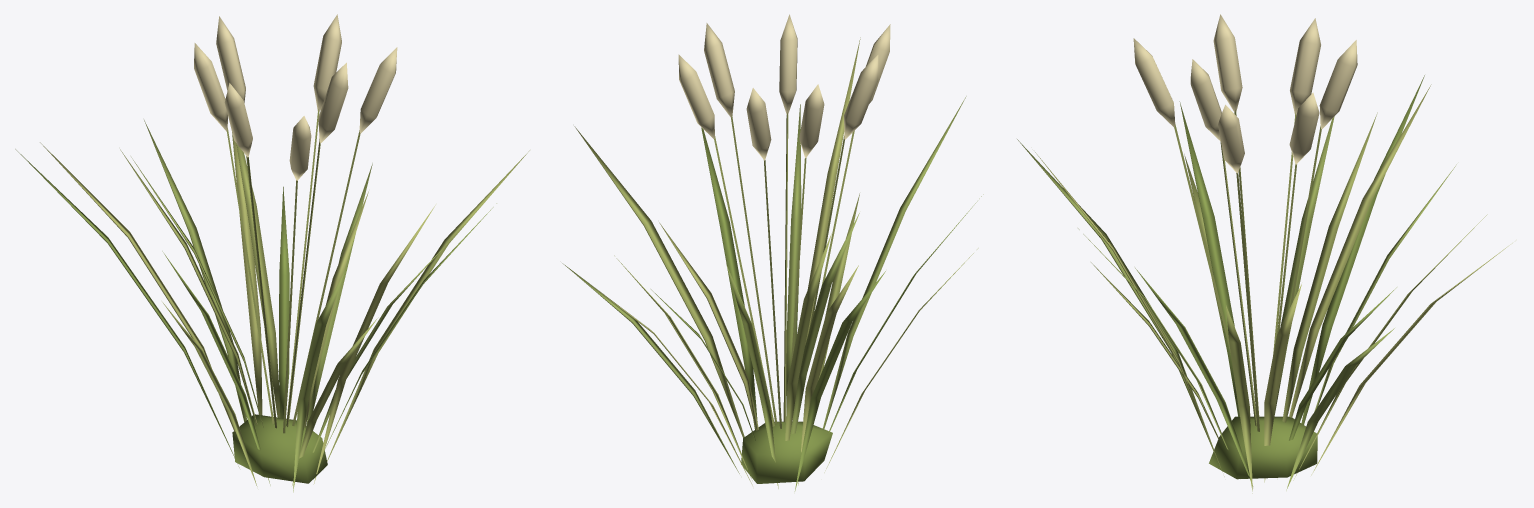
File: grass.far.glb
3 views of the same model, side by side, from view 1: azimuth 30°, elevation 25°; view 2: azimuth 150°, elevation 25°; view 3: azimuth 270°, elevation 25° (orthographic).
Parts seen in each view (by area): view 1: grass; view 2: grass; view 3: grass.
Part boxes in pixels (x1,y1,x2,y2): grass: [15, 14, 529, 492]; grass: [562, 14, 983, 491]; grass: [1017, 14, 1512, 493].
Bounding box in the file's own units: 1.22 × 1.21 × 1.28.
